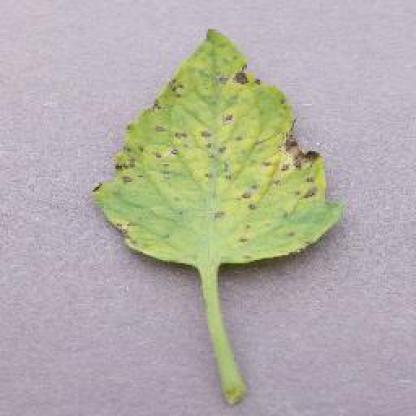bad leaf: (73, 18, 343, 400)
